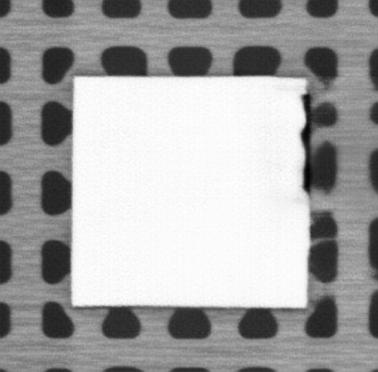DIE_BROKEN: (298, 91, 312, 196)
